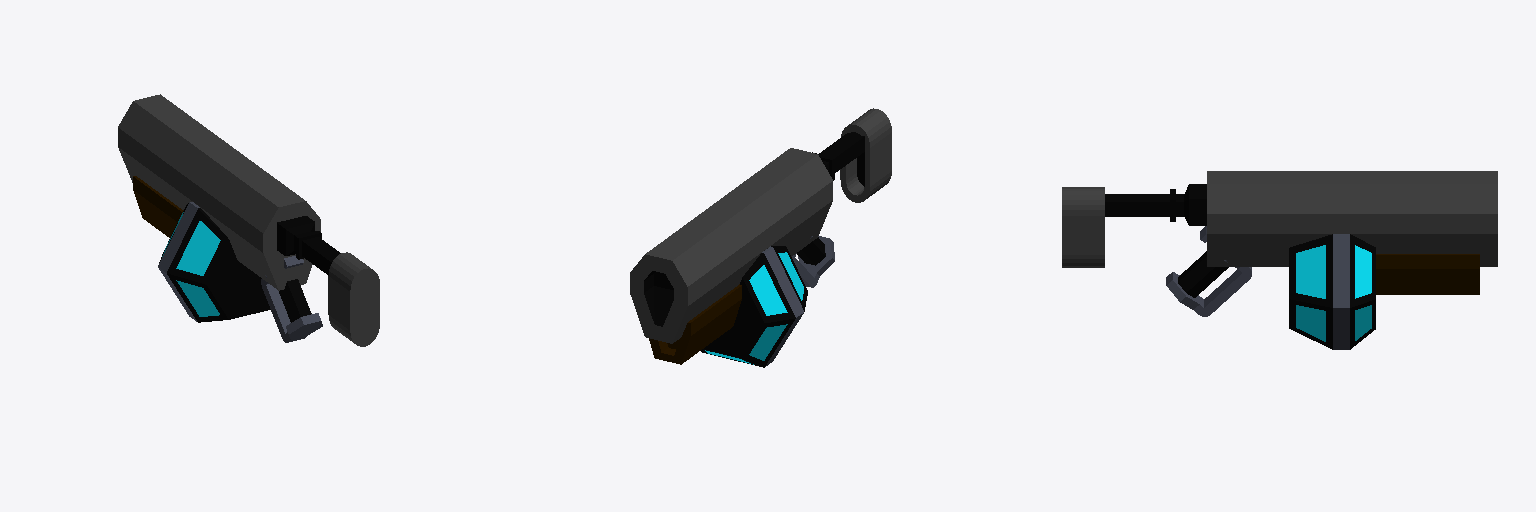
Rendered from grenadeLauncher.obj.
3 renders of one model, left to right at view 1: azimuth 30°, elevation 25°; view 2: azimuth 150°, elevation 25°; view 3: azimuth 270°, elevation 25°, orthographic.
Size of the model in its own units: 0.8 by 0.9504 by 2.4.